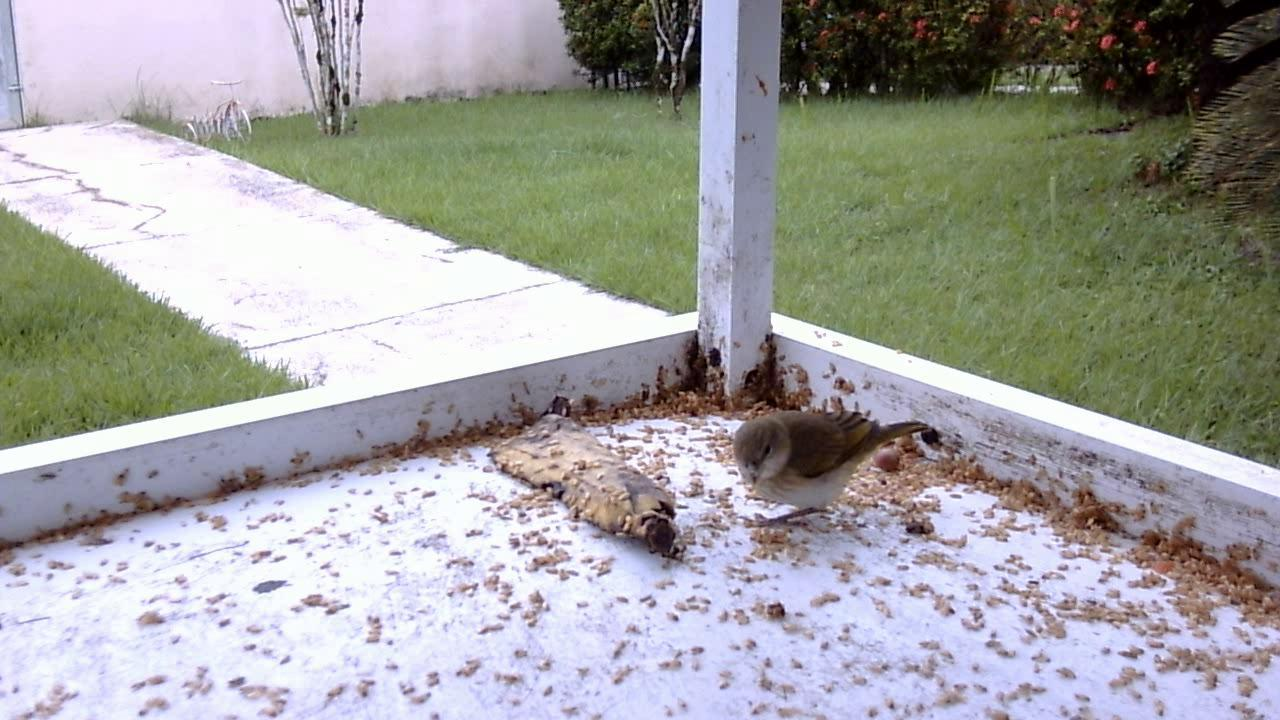canario_do_amazonas: (720, 404, 945, 537)
